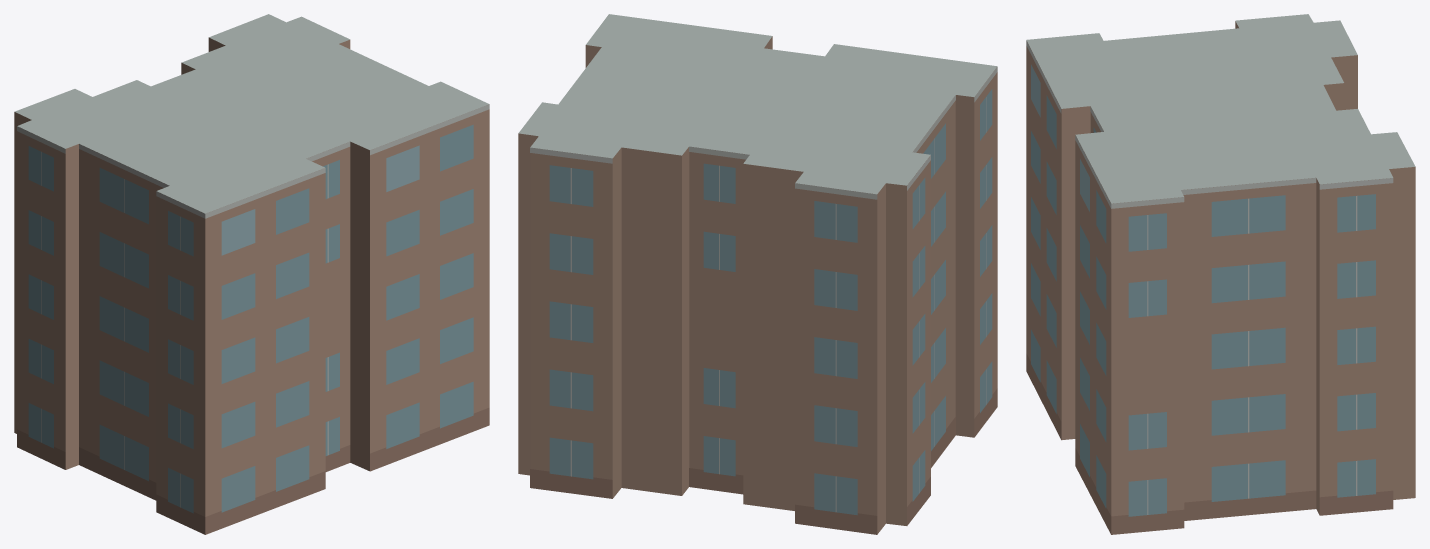
Rendered from survey-upis-32493046.glb.
3 views of the same model, side by side, from view 1: azimuth 30°, elevation 25°; view 2: azimuth 150°, elevation 25°; view 3: azimuth 270°, elevation 25° (orthographic). The views are drawn at different scales.
Parts seen in each view (by area): view 1: survey-upis-32493046.tmp; view 2: survey-upis-32493046.tmp; view 3: survey-upis-32493046.tmp.
Boxes of the visible parts, <box> form: survey-upis-32493046.tmp: <box>14,14,489,534</box>; survey-upis-32493046.tmp: <box>518,14,997,534</box>; survey-upis-32493046.tmp: <box>1026,14,1415,534</box>.
Size of the model in its own units: 18.95 by 15.43 by 16.45.
